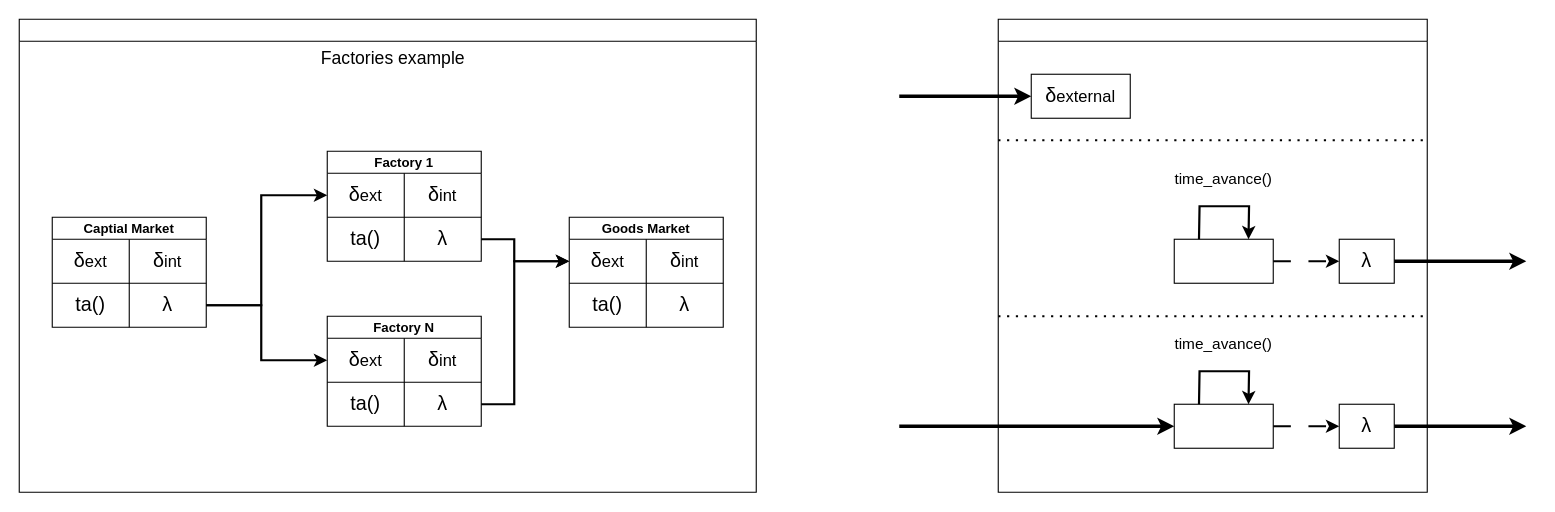
Image size: 1555x512. Some labels were removed from this diagram. Each missing label, with the box of its shape:
Atomic: (997, 18, 1427, 492)
AtomicGraph: (18, 18, 756, 492)
δ confluence: (1173, 403, 1273, 448)
δ internal: (1173, 238, 1273, 283)
